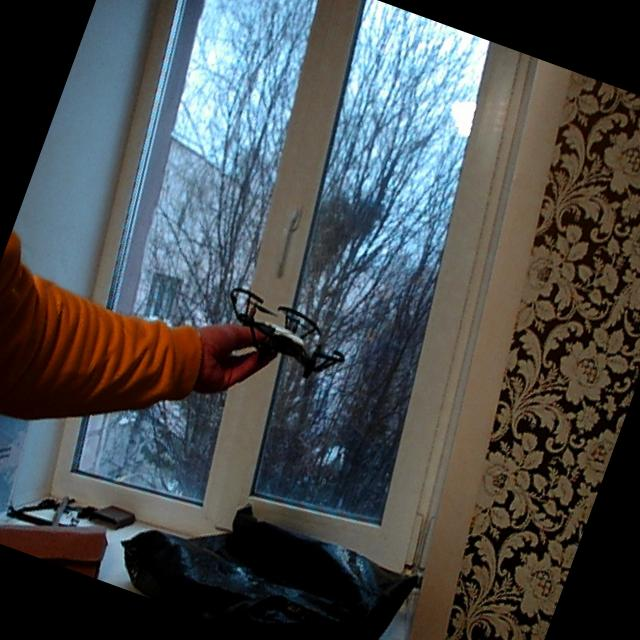drone: (195, 264, 366, 404)
